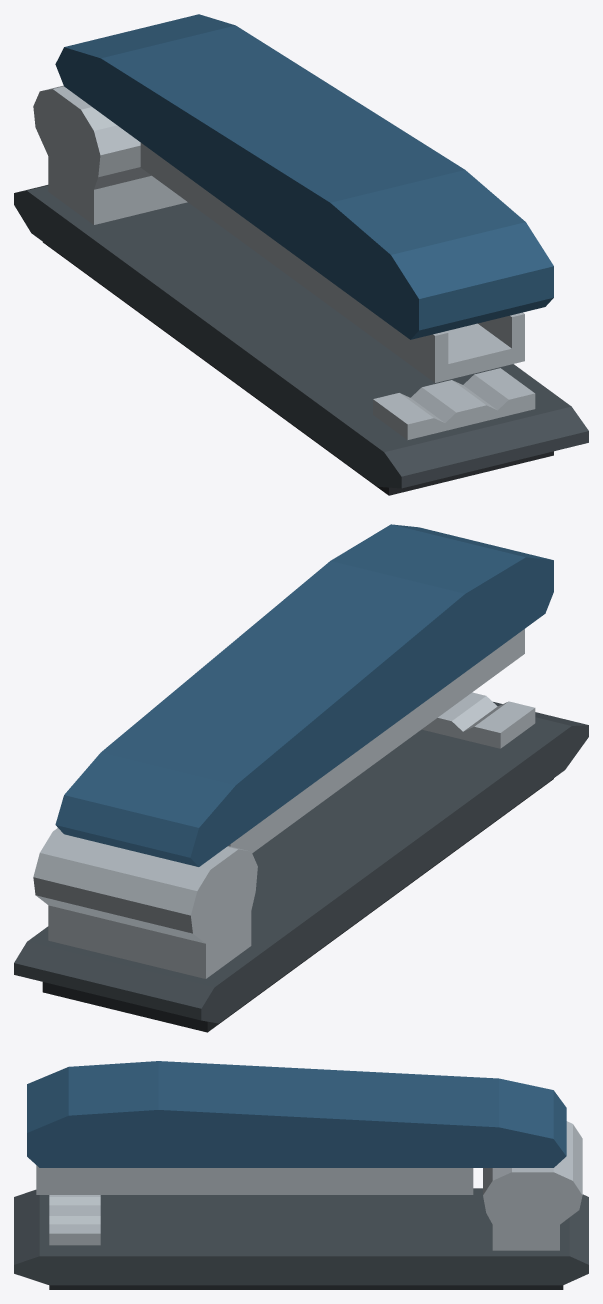
3 views of the same model, one above another, from view 1: azimuth 30°, elevation 25°; view 2: azimuth 150°, elevation 25°; view 3: azimuth 270°, elevation 25° (orthographic). The views are drawn at different scales.
Visible parts, largest first — view 1: TaperedPalmUpperShell, FacetedLowBase, OpenEndedUSectionMagazine, RaisedTransverseHingeCradle, TwinGrooveClincherAnvil, CompleteGroundSole; view 2: TaperedPalmUpperShell, FacetedLowBase, RaisedTransverseHingeCradle, OpenEndedUSectionMagazine, TwinGrooveClincherAnvil, CompleteGroundSole; view 3: TaperedPalmUpperShell, FacetedLowBase, OpenEndedUSectionMagazine, RaisedTransverseHingeCradle, TwinGrooveClincherAnvil, CompleteGroundSole.
Boxes of the visible parts, x1=… form: TaperedPalmUpperShell: x1=55, y1=14, x2=553, y2=339; FacetedLowBase: x1=14, y1=185, x2=588, y2=488; OpenEndedUSectionMagazine: x1=140, y1=143, x2=524, y2=382; RaisedTransverseHingeCradle: x1=33, y1=85, x2=187, y2=224; TwinGrooveClincherAnvil: x1=373, y1=368, x2=535, y2=439; CompleteGroundSole: x1=43, y1=242, x2=553, y2=495; TaperedPalmUpperShell: x1=55, y1=524, x2=553, y2=866; FacetedLowBase: x1=14, y1=702, x2=588, y2=1023; RaisedTransverseHingeCradle: x1=33, y1=828, x2=257, y2=978; OpenEndedUSectionMagazine: x1=228, y1=629, x2=524, y2=853; TwinGrooveClincherAnvil: x1=422, y1=692, x2=535, y2=748; CompleteGroundSole: x1=42, y1=778, x2=553, y2=1032; TaperedPalmUpperShell: x1=27, y1=1061, x2=566, y2=1167; FacetedLowBase: x1=14, y1=1188, x2=588, y2=1285; OpenEndedUSectionMagazine: x1=36, y1=1165, x2=473, y2=1194; RaisedTransverseHingeCradle: x1=483, y1=1121, x2=582, y2=1250; TwinGrooveClincherAnvil: x1=49, y1=1195, x2=100, y2=1245; CompleteGroundSole: x1=49, y1=1285, x2=563, y2=1289.
Size of the model in its own units: 0.05 by 0.06 by 0.179.
